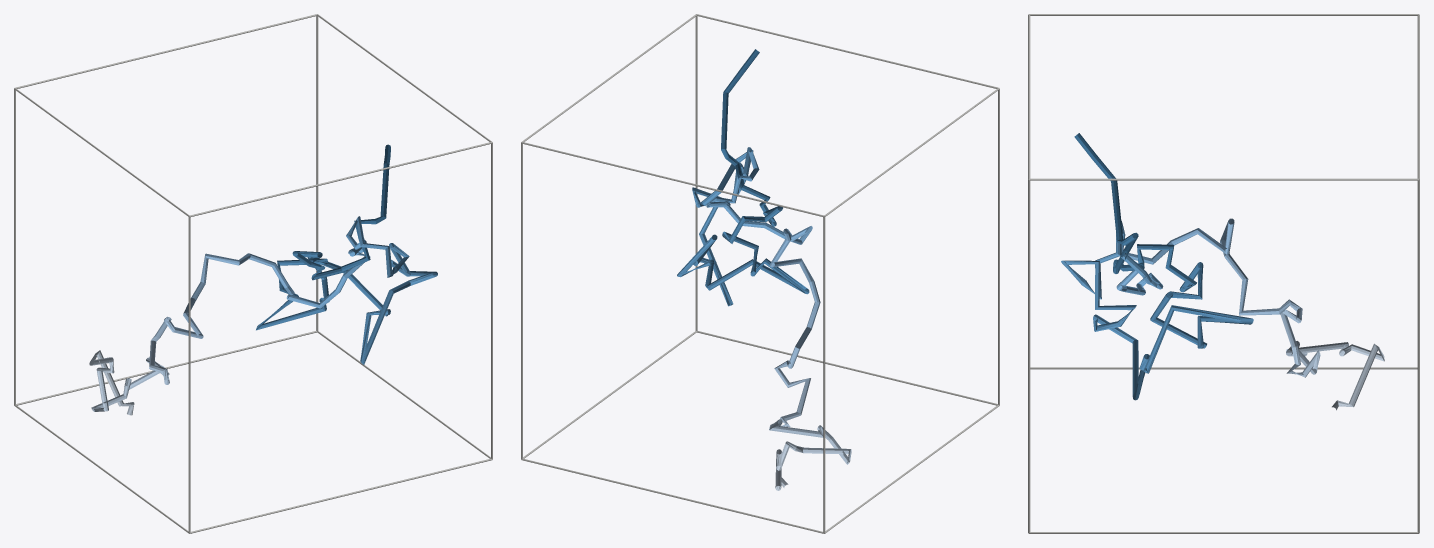
3 renders of one model, left to right at view 1: azimuth 30°, elevation 25°; view 2: azimuth 150°, elevation 25°; view 3: azimuth 270°, elevation 25°, orthographic. The views are drawn at different scales.
Visible parts, largest first — view 1: geometry_0, geometry_1; view 2: geometry_0, geometry_1; view 3: geometry_0, geometry_1.
Boxes of the visible parts, <box> form: geometry_0: <box>89,144,437,415</box>; geometry_1: <box>14,14,492,533</box>; geometry_0: <box>677,49,851,490</box>; geometry_1: <box>521,14,999,533</box>; geometry_0: <box>1061,133,1384,410</box>; geometry_1: <box>1028,14,1419,533</box>.
Size of the model in its own units: 0.3016 by 0.3032 by 0.3016.
